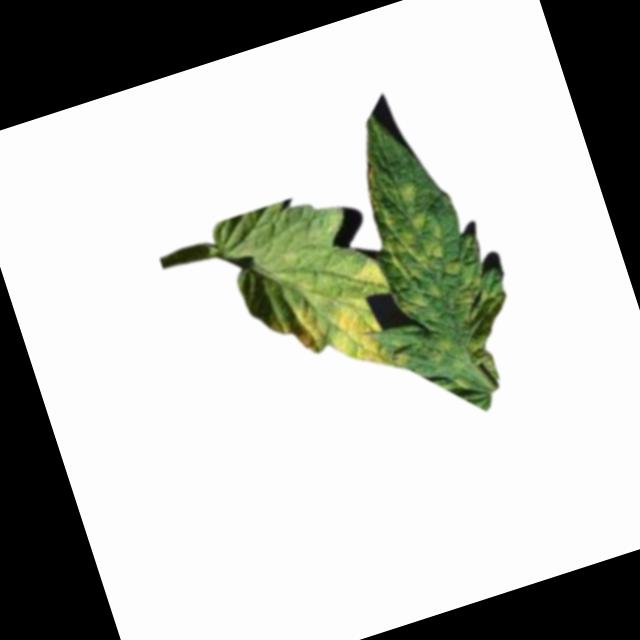Leaf_Mold: (349, 132, 492, 320), (259, 249, 413, 402), (440, 266, 529, 390)
